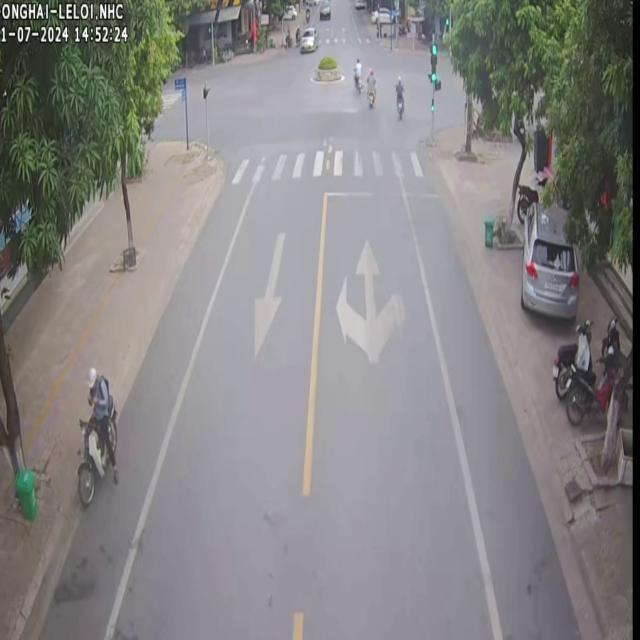car: (519, 194, 578, 318)
green_light: (427, 40, 435, 85)
motobike: (78, 365, 111, 501), (364, 67, 374, 107), (394, 74, 403, 117)
stop_line: (323, 189, 436, 196)
